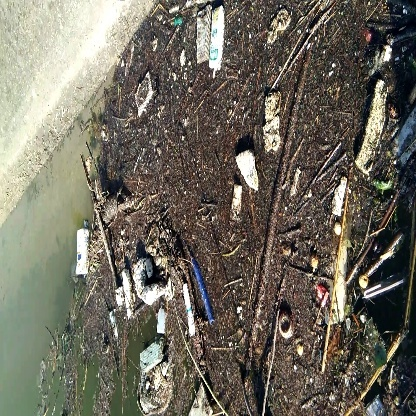milk-box: (208, 7, 231, 79), (71, 227, 93, 279)
